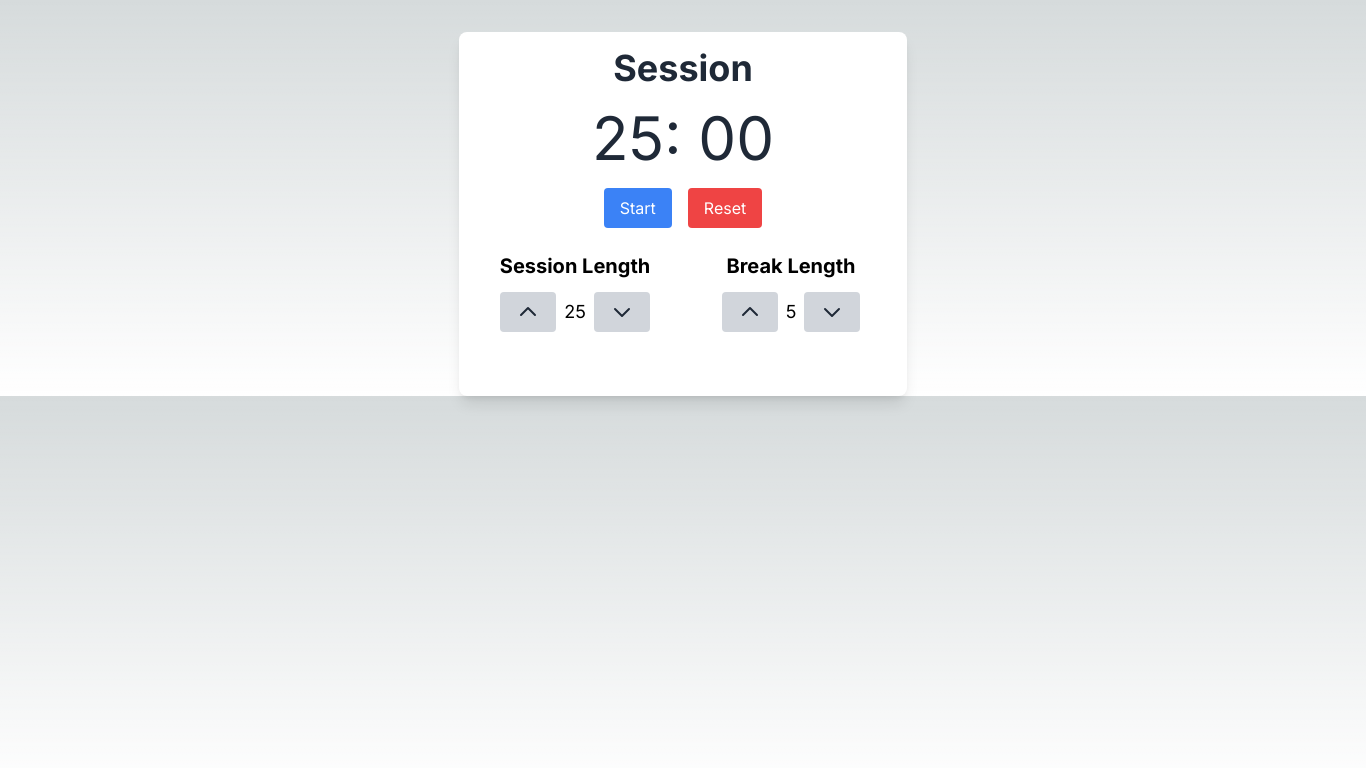
PomodoroTimer › decreases session length when clicked on decrease button
Click the button with test id "decrease-session": x=622, y=312 [594,292,650,332]
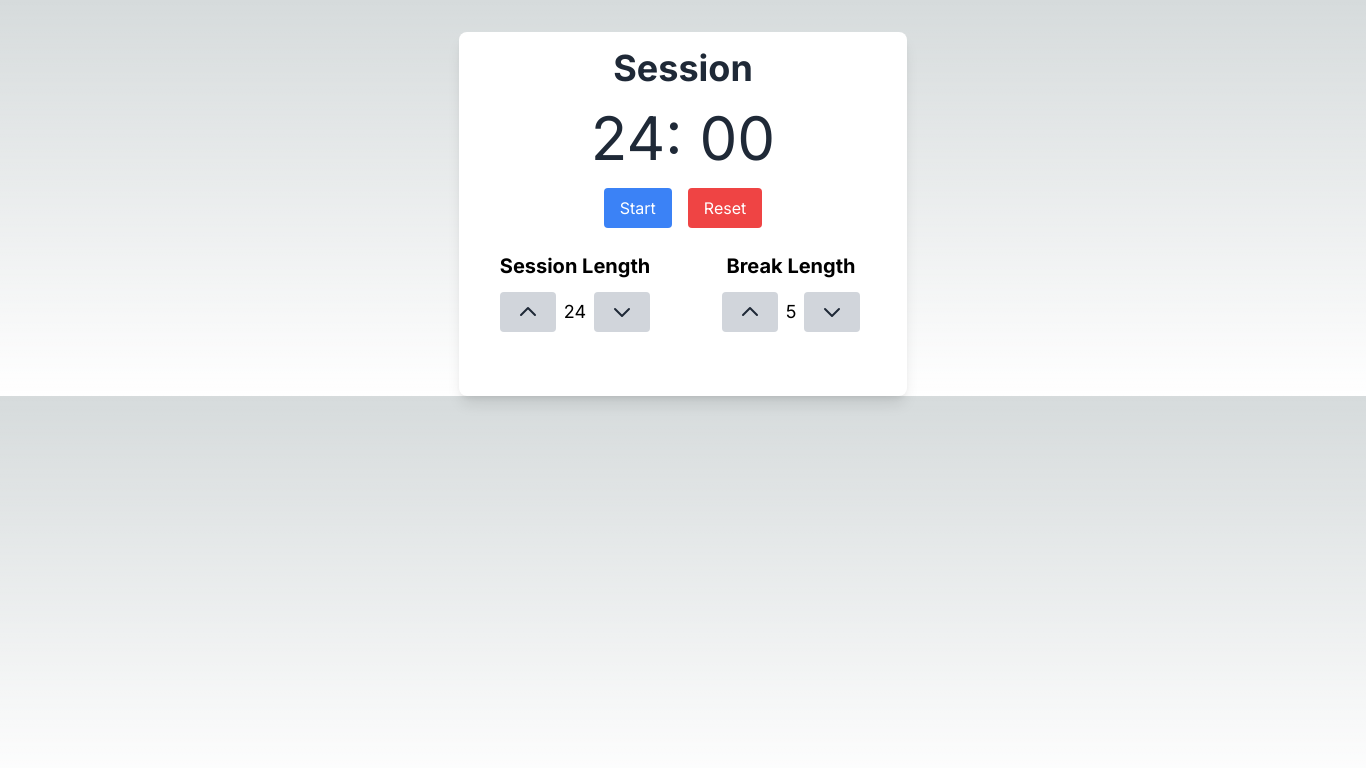
Expected: the text with test id "session-value" reads "24", [564,301,586,322]
